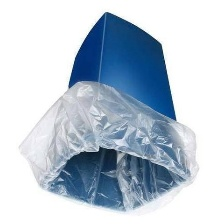plastic_bag: (16, 78, 205, 221)
